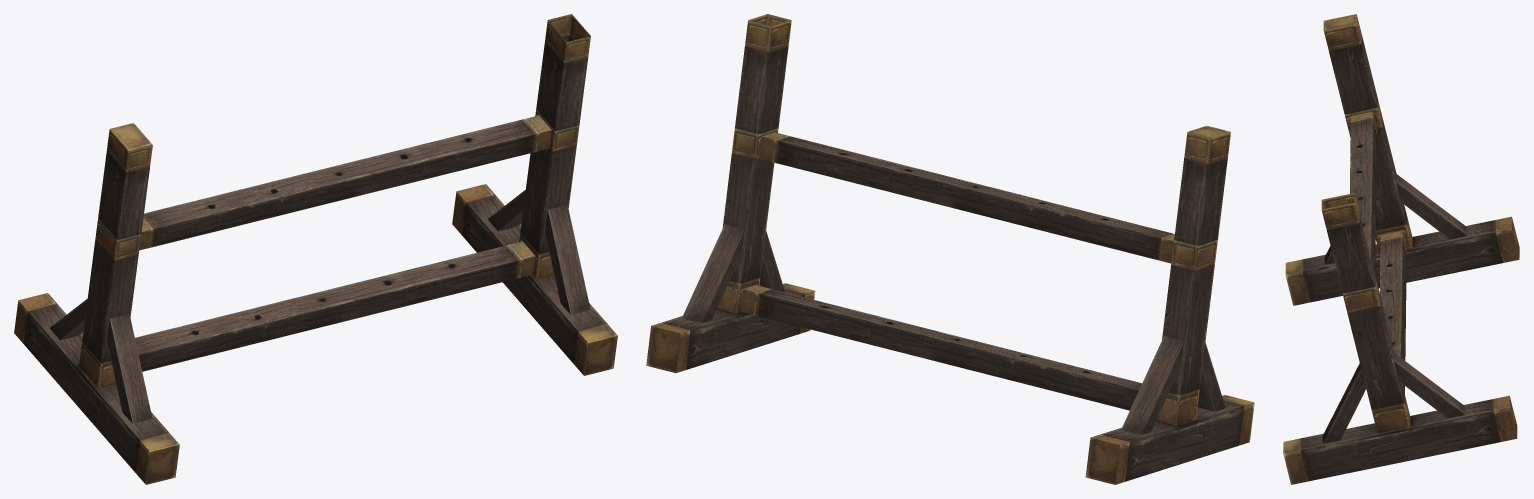
Rendered from 4007_Item_wuqi_7.FBX.
3 views of the same model, side by side, from view 1: azimuth 30°, elevation 25°; view 2: azimuth 150°, elevation 25°; view 3: azimuth 270°, elevation 25° (orthographic). The views are drawn at different scales.
Parts seen in each view (by area): view 1: 4007_Item_wuqi_7; view 2: 4007_Item_wuqi_7; view 3: 4007_Item_wuqi_7.
Boxes of the visible parts, <box> form: 4007_Item_wuqi_7: <box>14,14,617,484</box>; 4007_Item_wuqi_7: <box>646,14,1254,484</box>; 4007_Item_wuqi_7: <box>1283,14,1519,484</box>.
Bounding box in the file's own units: 228 × 155 × 117.
